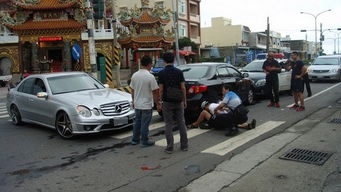falling: (185, 98, 256, 137)
